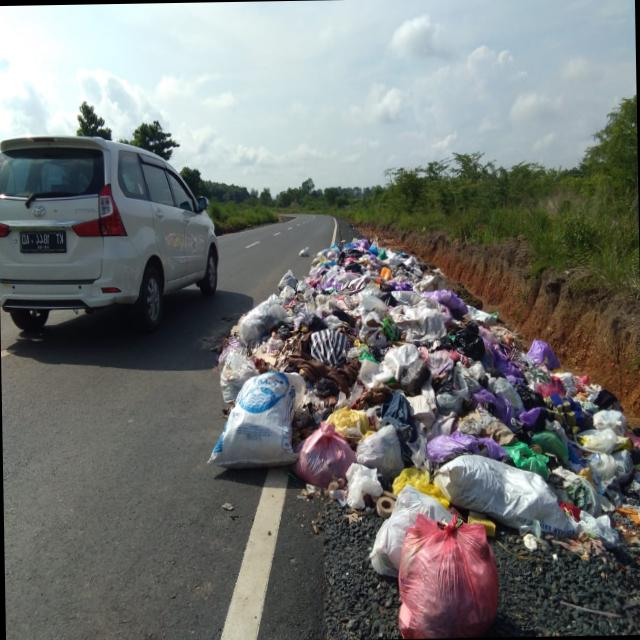garbage: (210, 190, 639, 632)
